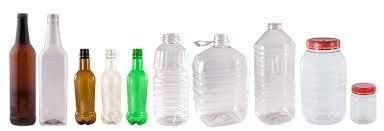Container for household chemicals: (299, 32, 347, 126), (352, 80, 380, 124)
Glass bottle: (40, 9, 70, 128), (7, 9, 36, 130)
Plastic bottle: (189, 31, 249, 127), (248, 22, 294, 126), (149, 31, 188, 124), (97, 48, 125, 126), (73, 47, 95, 124), (127, 48, 149, 124)
